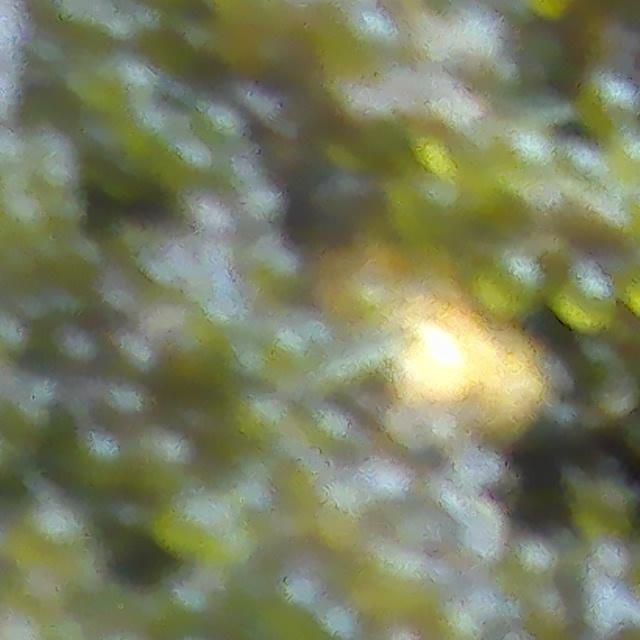SeaGrape: (511, 536, 557, 581)
